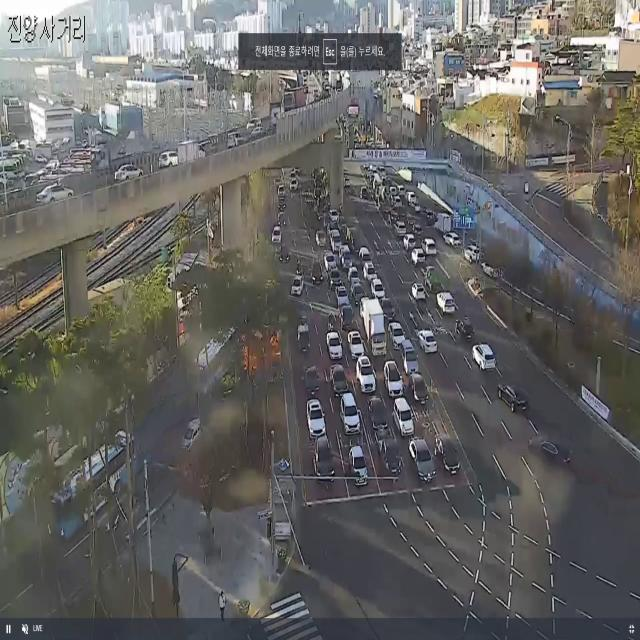bus: (325, 307, 336, 334), (296, 253, 304, 275)
car: (41, 423, 135, 556), (192, 305, 252, 394), (248, 123, 265, 146)
motorcycle: (528, 433, 574, 477), (27, 180, 78, 215), (312, 434, 337, 486), (180, 414, 213, 451), (436, 432, 463, 476), (404, 444, 436, 479), (306, 385, 327, 437), (503, 383, 529, 421), (153, 146, 179, 182), (371, 388, 390, 436), (470, 343, 496, 375), (413, 372, 433, 410), (114, 163, 142, 190), (349, 442, 366, 484), (396, 398, 415, 432), (456, 313, 476, 344), (402, 337, 417, 378), (314, 226, 331, 260), (310, 258, 328, 290), (481, 257, 506, 280), (436, 291, 456, 319), (344, 382, 356, 428), (296, 322, 312, 356), (333, 364, 348, 400), (303, 361, 319, 394), (357, 358, 372, 392), (348, 329, 362, 363), (389, 320, 406, 348), (418, 329, 436, 354), (227, 128, 243, 155), (327, 268, 343, 294), (276, 240, 294, 263), (425, 235, 442, 257), (464, 243, 480, 264), (339, 246, 353, 270), (382, 293, 394, 320), (294, 273, 305, 302), (351, 282, 365, 304), (324, 249, 338, 270), (331, 331, 340, 363), (358, 244, 372, 263), (348, 265, 360, 287), (413, 248, 425, 269), (358, 294, 368, 319), (412, 282, 424, 302), (446, 232, 460, 249), (374, 279, 384, 300), (404, 237, 416, 254), (365, 263, 376, 281), (336, 286, 346, 304), (397, 219, 408, 235), (413, 222, 424, 233), (426, 212, 432, 221)
truck: (372, 425, 406, 480), (360, 296, 388, 358), (177, 141, 210, 172), (433, 210, 453, 232), (341, 300, 355, 328)
